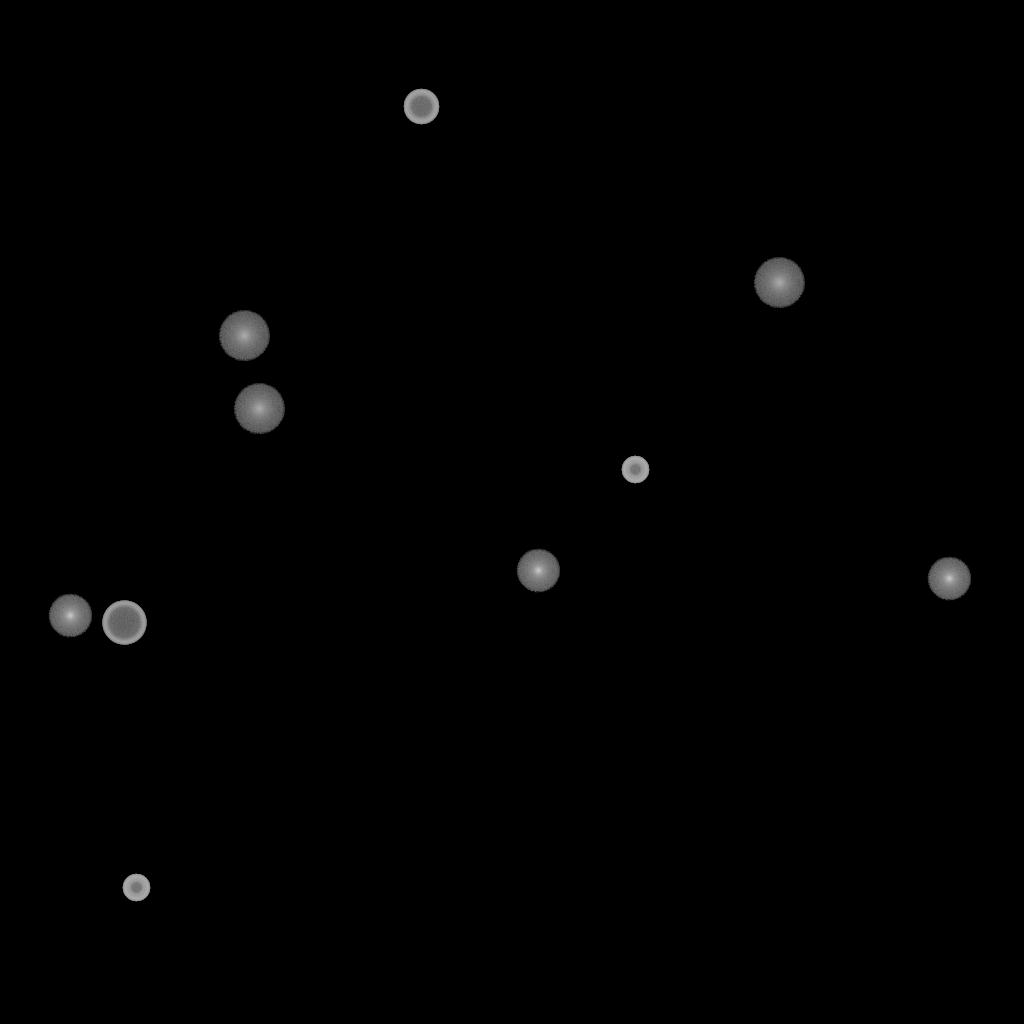depth:-50: (122, 874, 150, 902), (621, 456, 649, 484)
depth:-60: (403, 89, 439, 125)
depth:-70: (102, 601, 146, 645)
depth:10: (48, 594, 92, 638), (927, 557, 971, 601), (516, 549, 560, 593)
depth:20: (218, 311, 270, 361), (753, 258, 805, 308), (233, 384, 285, 434)
